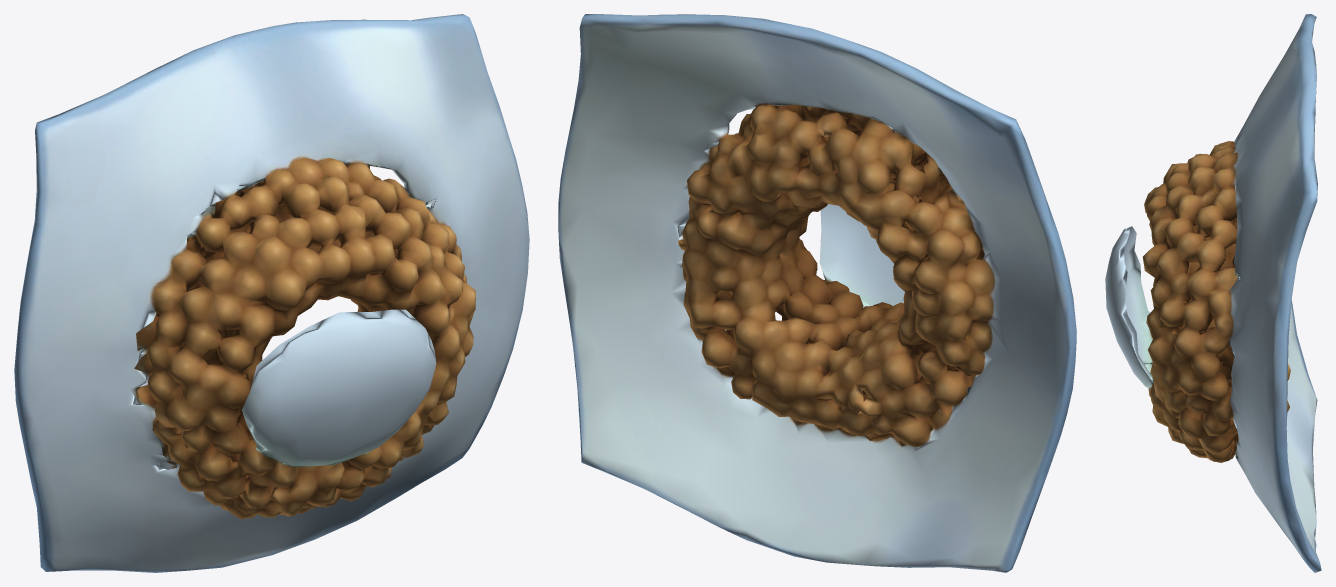
Rendered from platelet-plug-model.glb.
3 renders of one model, left to right at view 1: azimuth 30°, elevation 25°; view 2: azimuth 150°, elevation 25°; view 3: azimuth 270°, elevation 25°, orthographic. The views are drawn at different scales.
Parts seen in each view (by area): view 1: world; view 2: world; view 3: world.
Boxes of the visible parts, <box> form: world: <box>14,14,529,572</box>; world: <box>558,14,1076,572</box>; world: <box>1105,14,1321,572</box>.
Bounding box in the file's own units: 1 × 0.983 × 0.4252.
1 material, 1 textured.
